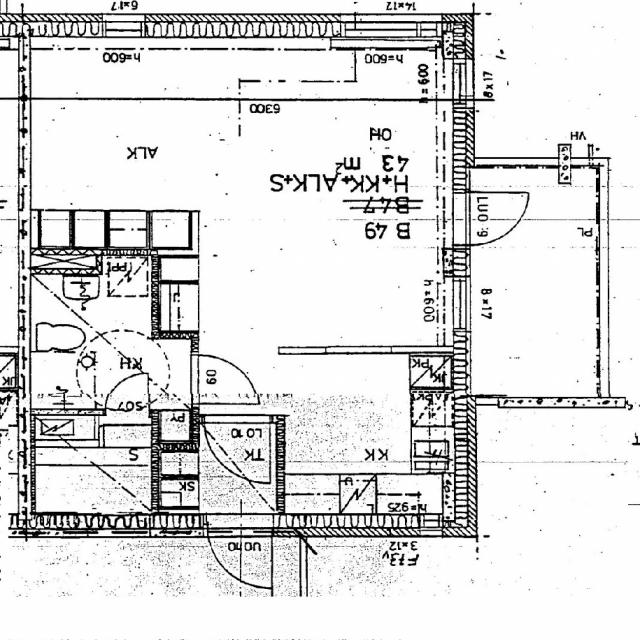door: (207, 514, 272, 596), (204, 414, 270, 482), (455, 191, 528, 245), (190, 355, 253, 404), (106, 368, 149, 415)
